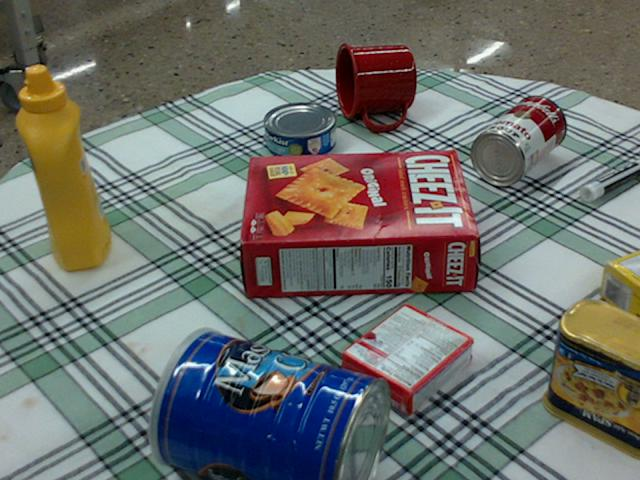cracker_box: (238, 152, 475, 297)
gelatin_box: (341, 303, 474, 411)
large_marker: (579, 159, 639, 199)
master_chef_can: (147, 330, 389, 479)
mug: (333, 42, 416, 129)
mustard_bottle: (16, 65, 110, 270)
potted_meat_can: (543, 296, 639, 454)
sugar_box: (602, 252, 639, 327)
tomato_soup_can: (469, 95, 565, 184)
tuna_fish_can: (262, 102, 335, 159)
